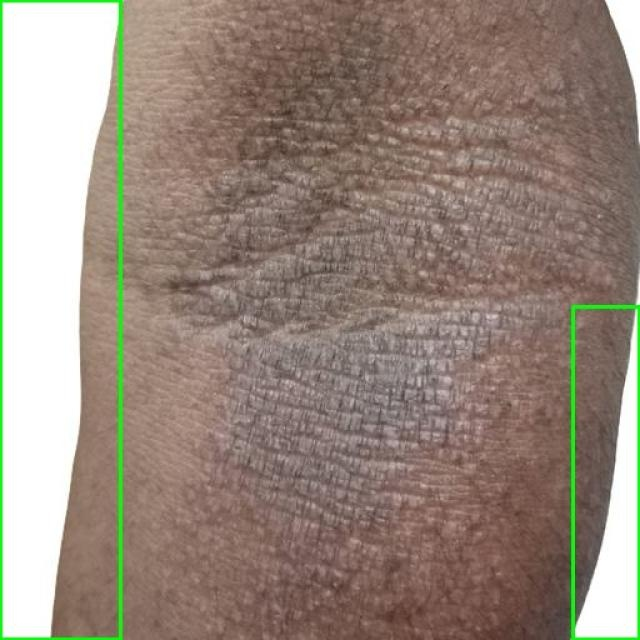Eczema: (0, 0, 120, 639), (572, 306, 639, 639)
